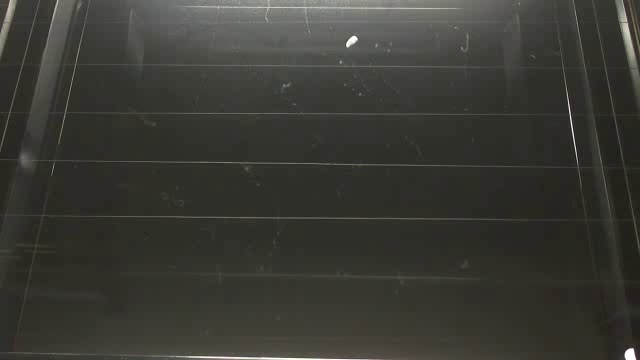Alfa: (344, 33, 361, 50)
